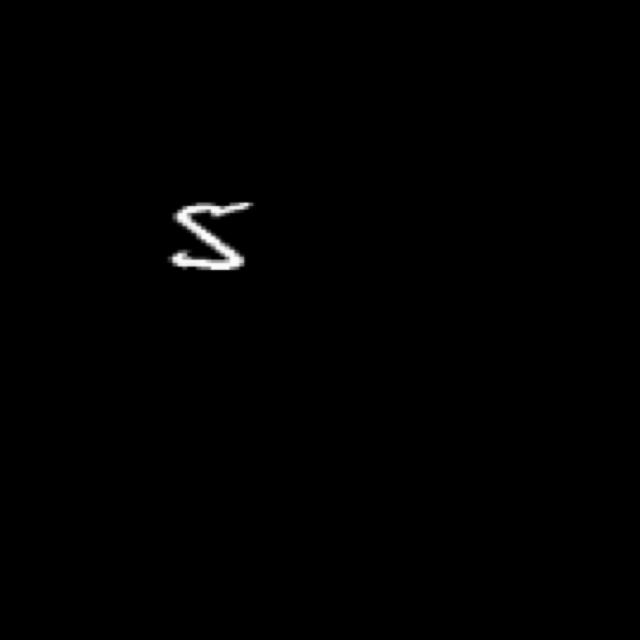five -5-: (168, 199, 264, 278)
